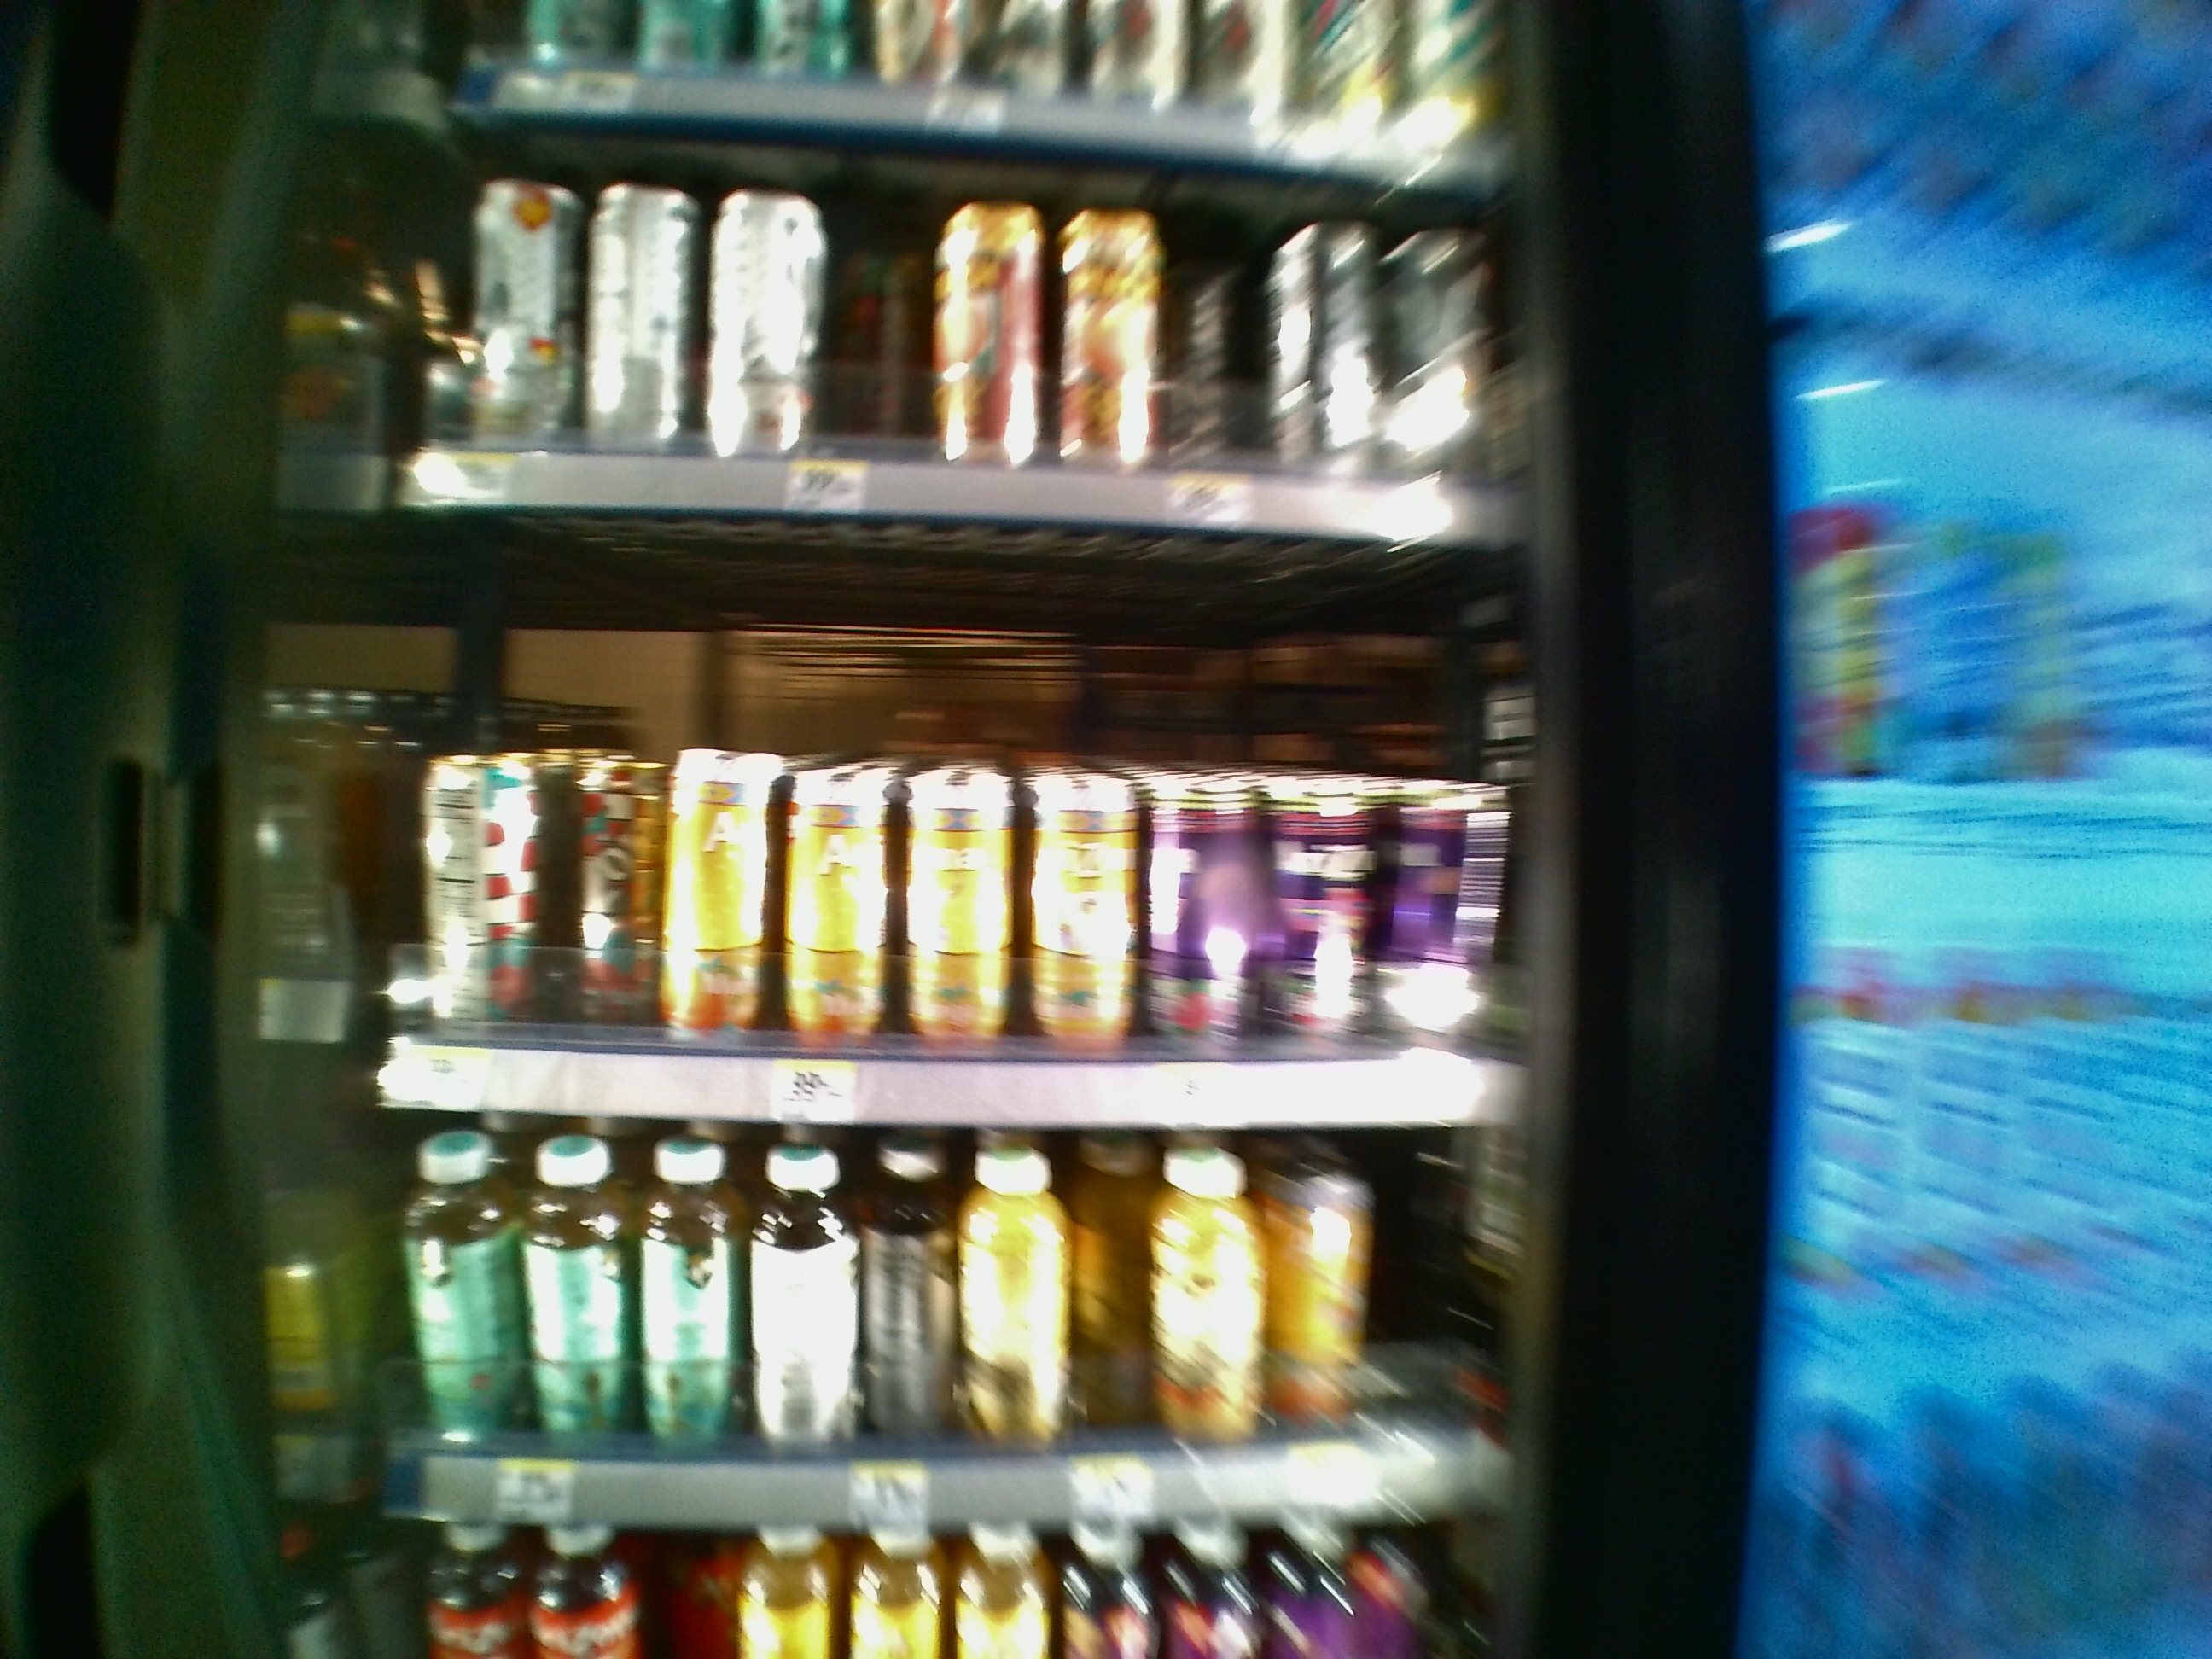shelf: (369, 1110, 1526, 1514)
